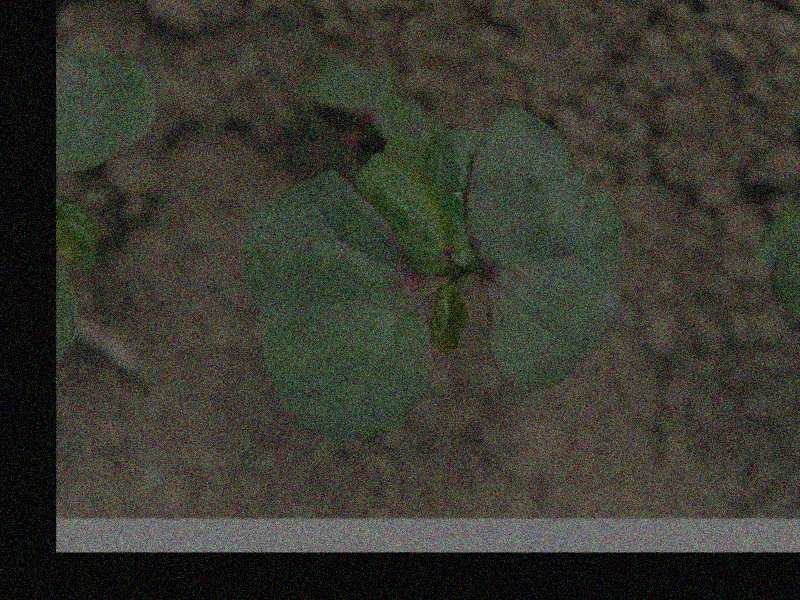cotton: (240, 101, 628, 447)
